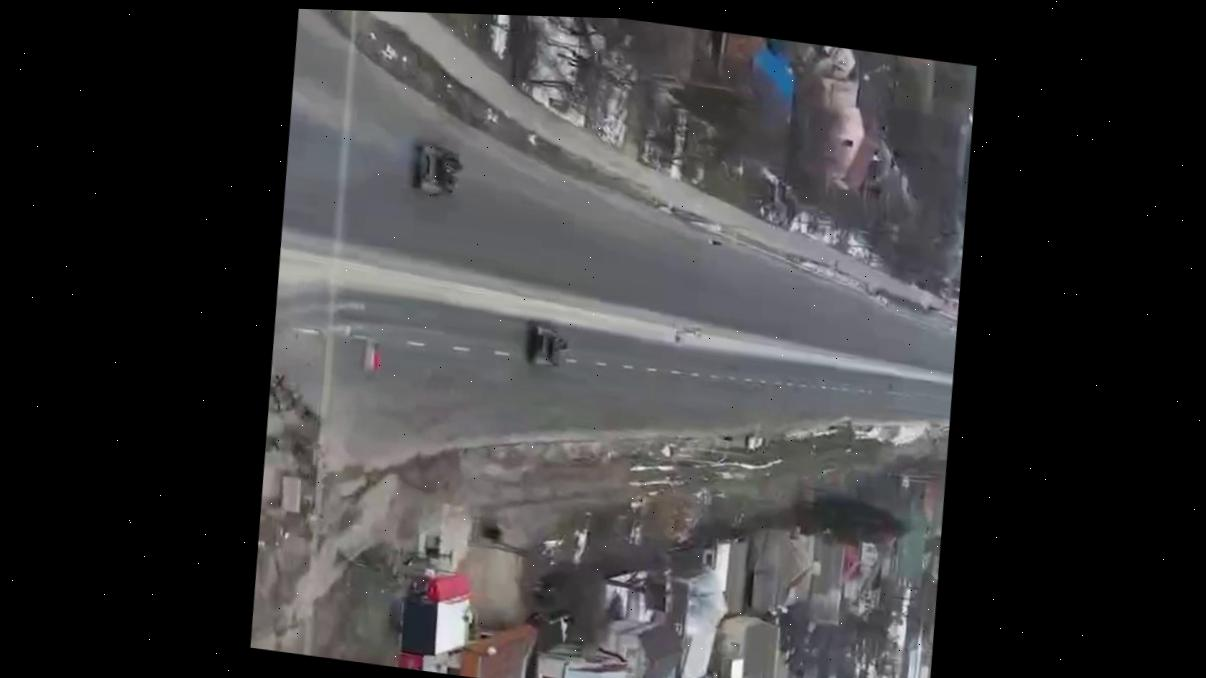tank: (407, 139, 468, 199), (525, 324, 572, 371)
